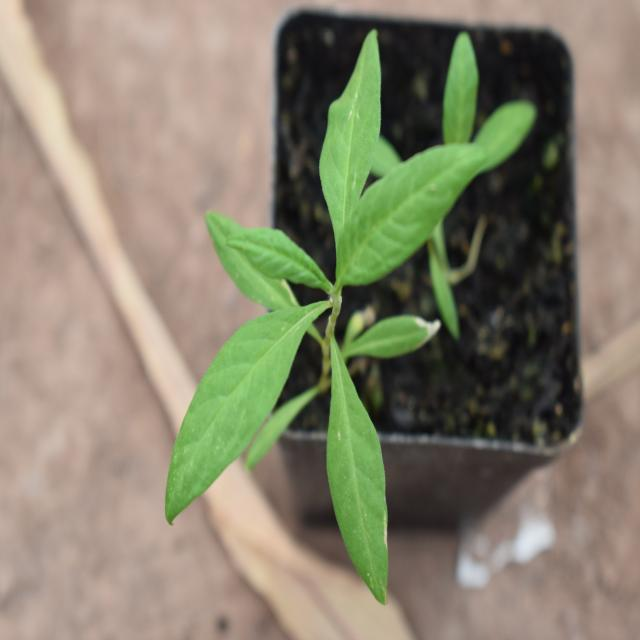white_smart_weed: (180, 51, 490, 610)
